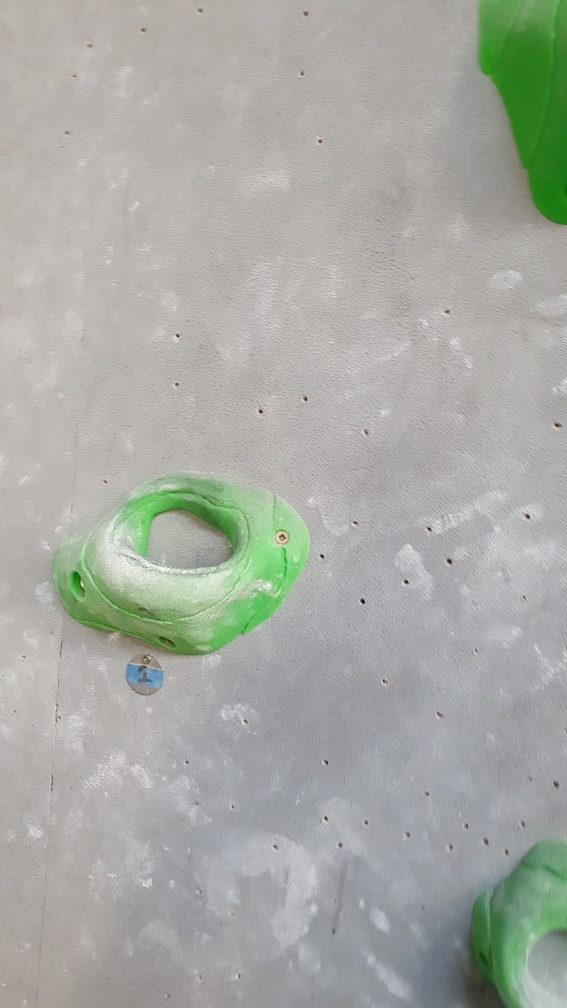Hand Start: (120, 650, 173, 698)
Pocket: (50, 469, 311, 656), (467, 843, 567, 1005)
